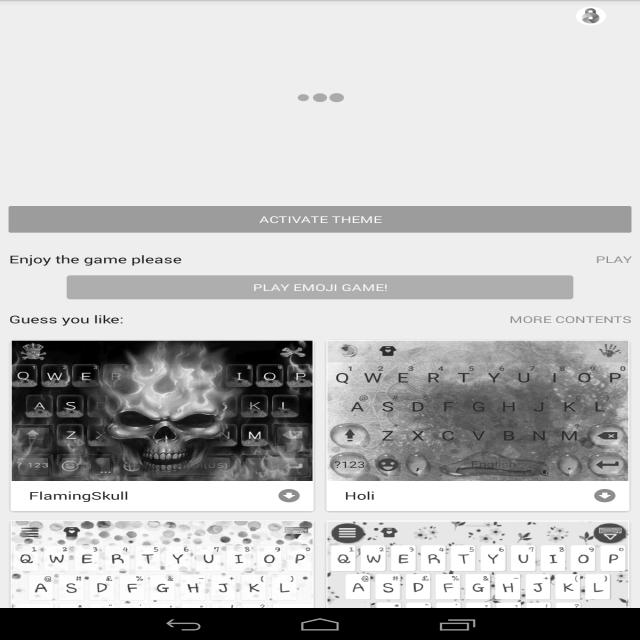Button: (9, 206, 632, 233), (68, 276, 572, 300)
ImageButton: (266, 481, 312, 510), (582, 481, 628, 510)
ImageView: (11, 341, 312, 481), (328, 341, 628, 481), (11, 521, 312, 640), (328, 521, 628, 640), (576, 0, 640, 25), (607, 11, 629, 21)
TextView: (8, 243, 182, 276), (509, 304, 632, 336), (12, 488, 266, 503), (328, 488, 582, 503), (8, 304, 124, 336), (595, 243, 632, 276)
